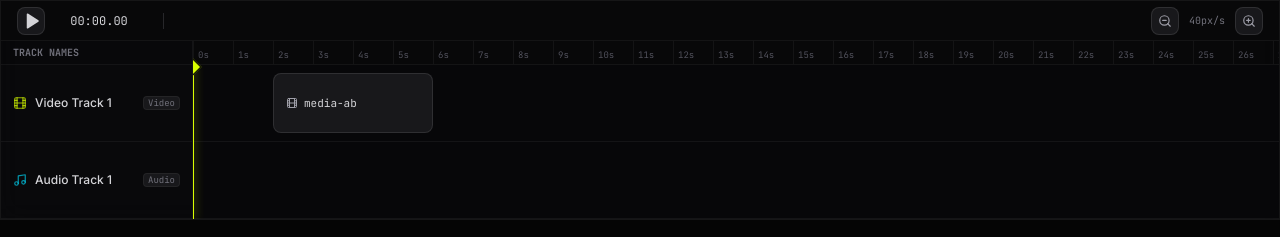
Test: TimelineEditor › should show remove button when clip is selected and trigger removeClip
Later steps or results of the test are not shown.
Click the text "media-ab": click(330, 103) [304,95,357,111]
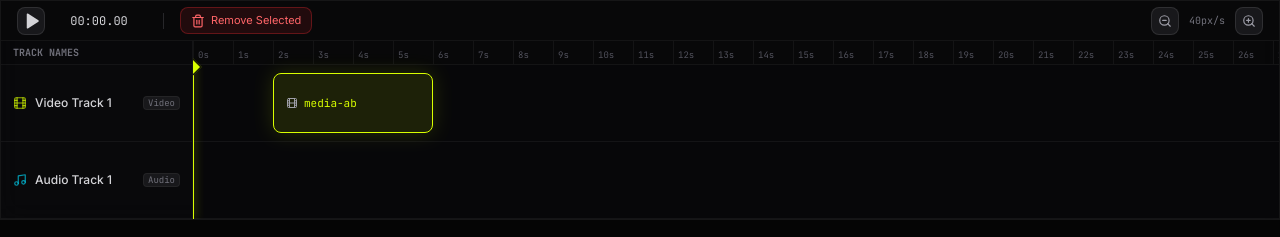
expect the button "Remove Selected" is shown: met, box [180,7,312,34]
